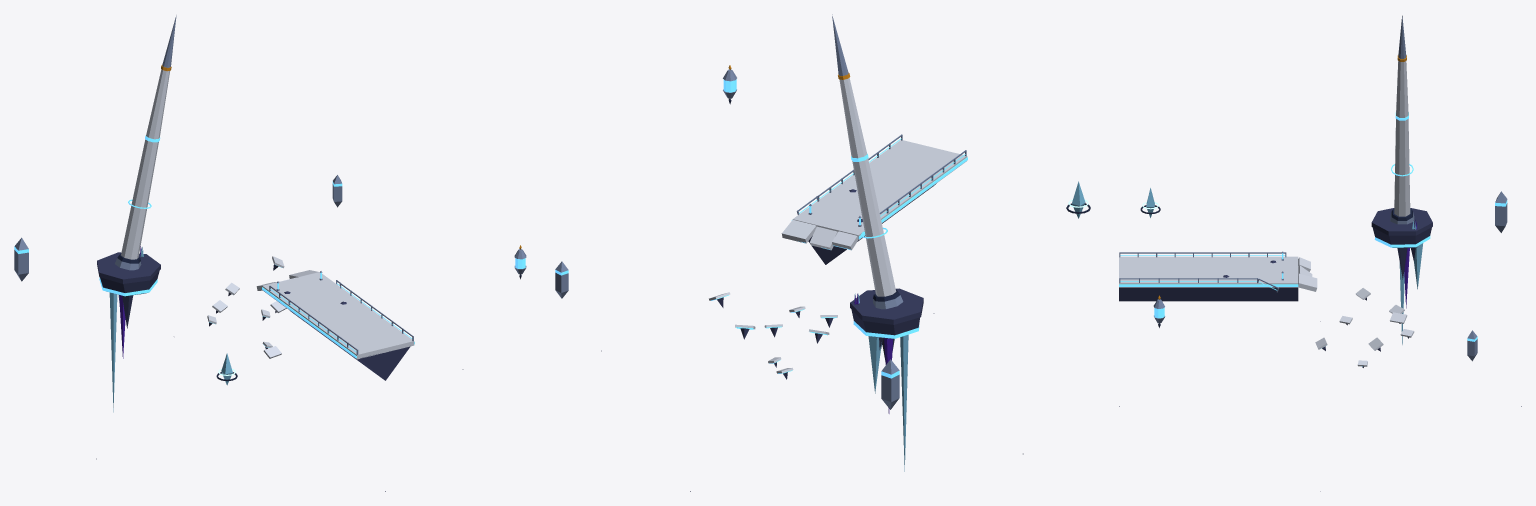
File: chunk_cap_crumbling.fbx
The picture shows the model from 3 angles, left to right: view 1: azimuth 30°, elevation 25°; view 2: azimuth 150°, elevation 25°; view 3: azimuth 270°, elevation 25°; orthographic projection. The views are drawn at different scales.
Visible parts, largest first — view 1: chunk_cap_crumbling; view 2: chunk_cap_crumbling; view 3: chunk_cap_crumbling.
Boxes of the visible parts, box(x1,y1,x2,y2) form: chunk_cap_crumbling: box(14, 15, 526, 491); chunk_cap_crumbling: box(555, 14, 1090, 491); chunk_cap_crumbling: box(1119, 15, 1521, 491).
Bounding box in the file's own units: 256 × 256 × 256.
